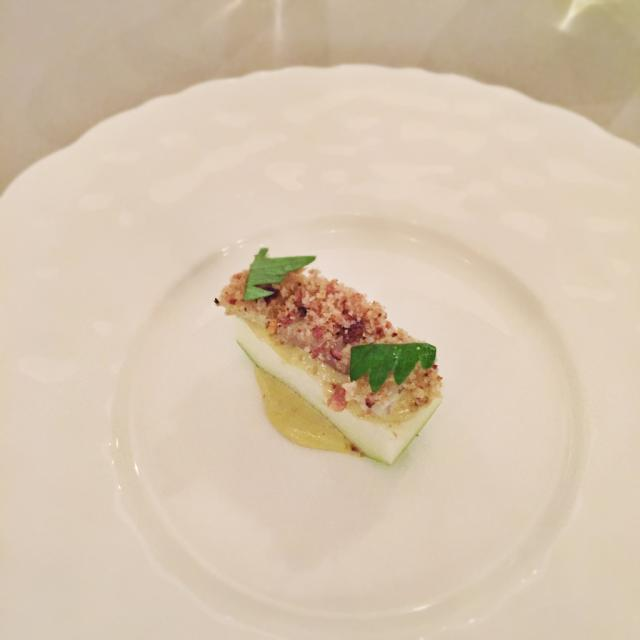non-organic waste: (7, 62, 640, 640)
